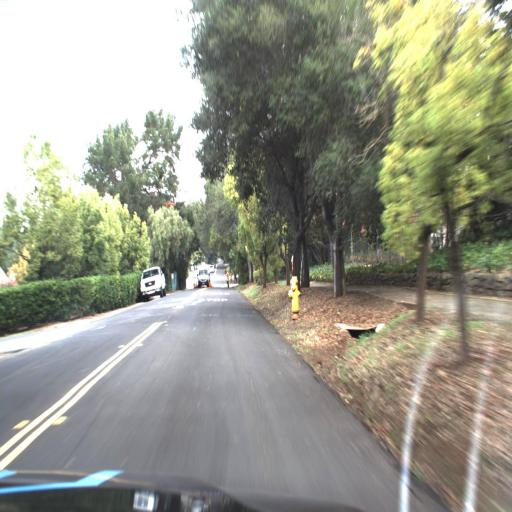car: (139, 262, 168, 304), (197, 261, 210, 289)
